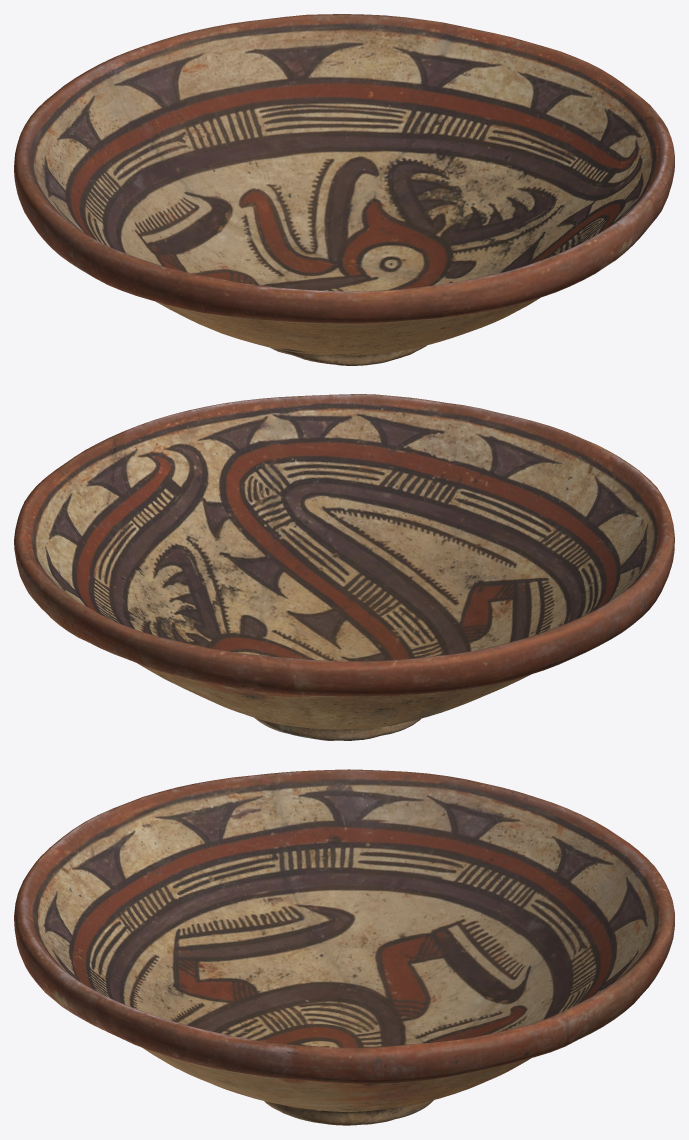
Rendered from plato_con_base_anular_y_diseno_zoomorfo.fbx.
3 views of the same model, one above another, from view 1: azimuth 30°, elevation 25°; view 2: azimuth 150°, elevation 25°; view 3: azimuth 270°, elevation 25° (orthographic).
Visible parts, largest first — view 1: Object_2; view 2: Object_2; view 3: Object_2.
Boxes of the visible parts, <box> form: Object_2: <box>14,14,674,365</box>; Object_2: <box>14,394,674,740</box>; Object_2: <box>14,769,674,1125</box>.
Bounding box in the file's own units: 28 × 8.32 × 27.77.
Materials: 1 (1 with a texture image).
